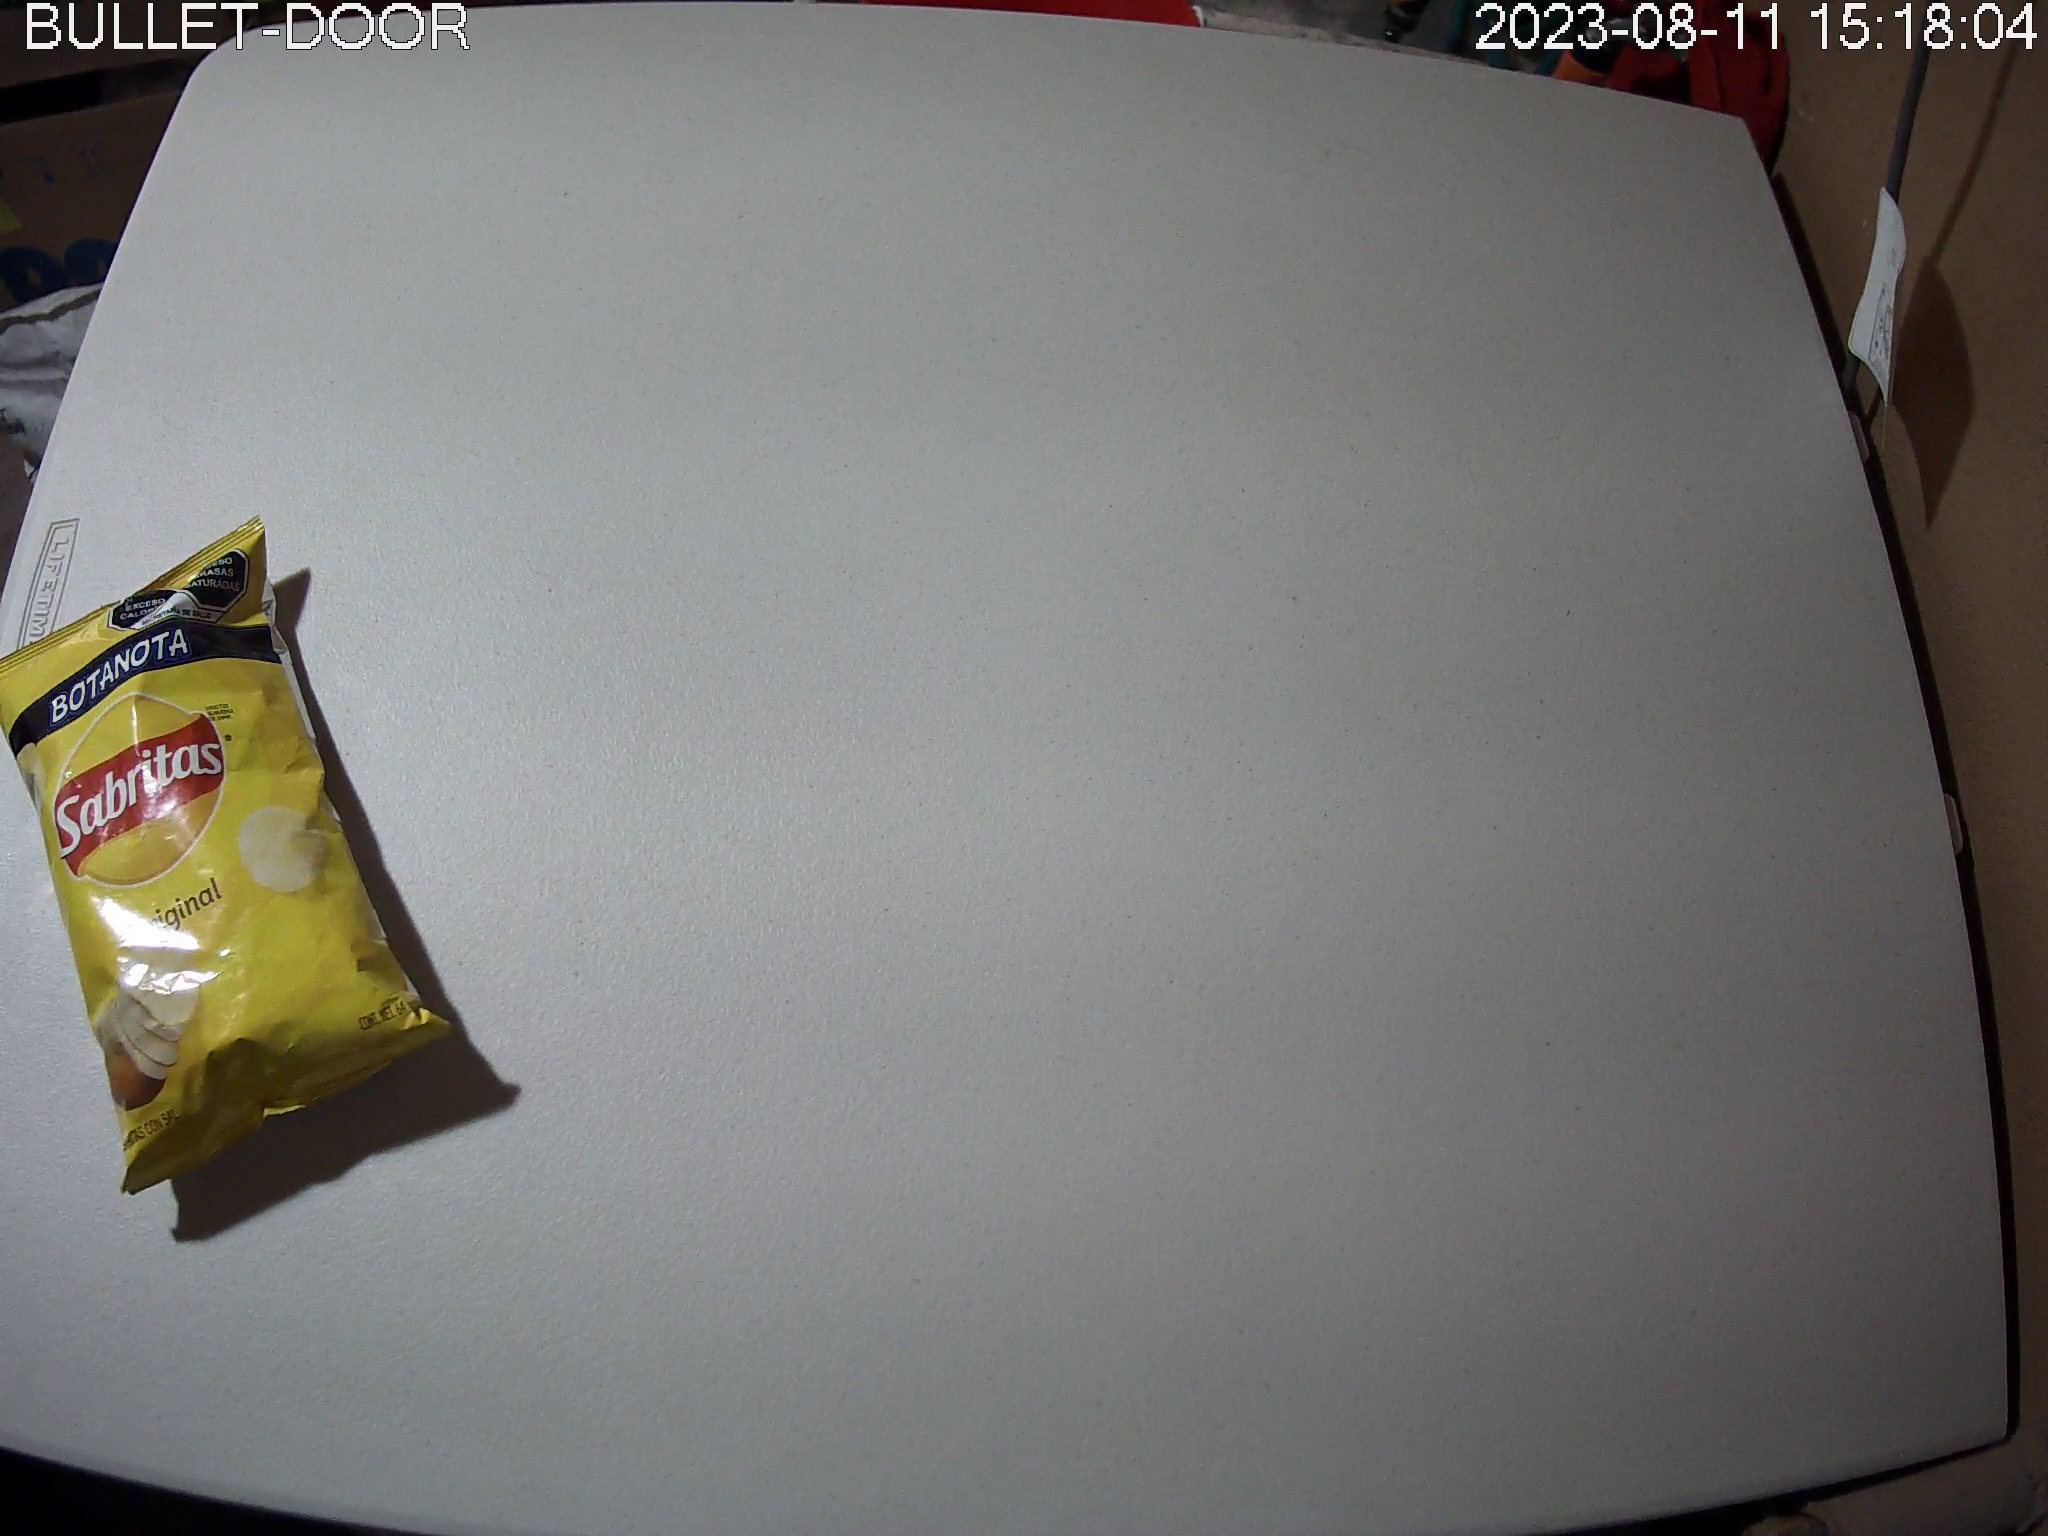Sabritas_64_F: (3, 513, 456, 1196)
